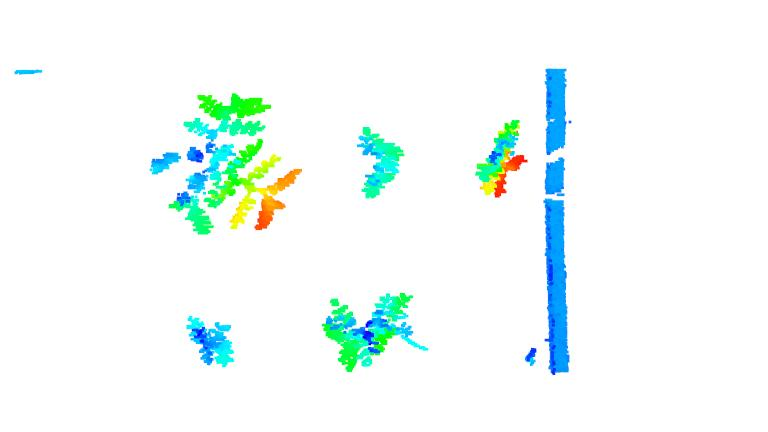chickpea: (148, 95, 301, 239), (322, 290, 416, 374), (473, 118, 532, 199), (354, 125, 402, 203), (182, 314, 236, 368)
